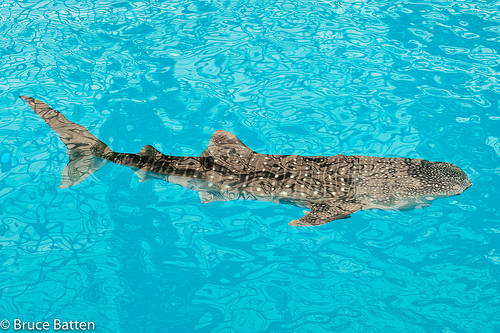shark: (13, 73, 480, 243)
